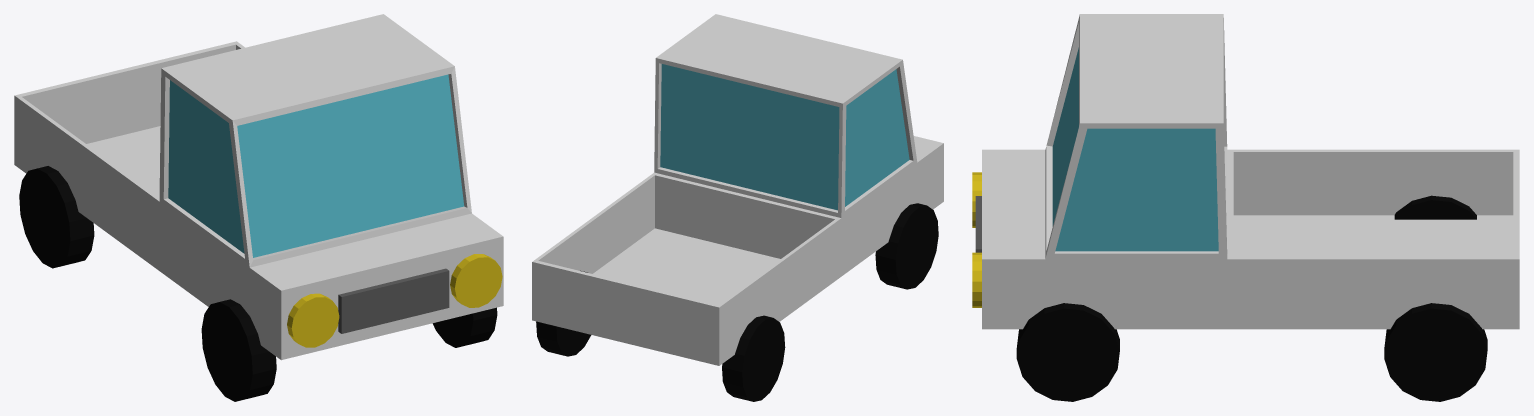
Rendered from bosstruck (3).fbx.
3 views of the same model, side by side, from view 1: azimuth 30°, elevation 25°; view 2: azimuth 150°, elevation 25°; view 3: azimuth 270°, elevation 25° (orthographic). The views are drawn at different scales.
Visible parts, largest first — view 1: Box001; view 2: Box001; view 3: Box001.
Boxes of the visible parts, left/top/right/bottom form: Box001: left=14, top=14, right=503, bottom=401; Box001: left=532, top=14, right=943, bottom=401; Box001: left=972, top=14, right=1519, bottom=401.
Bounding box in the file's own units: 186 × 197 × 358.
